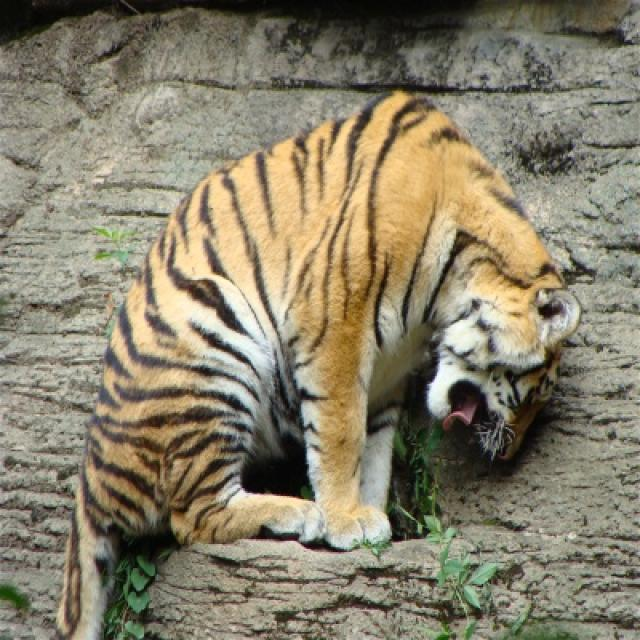Tiger: (56, 91, 578, 638)
